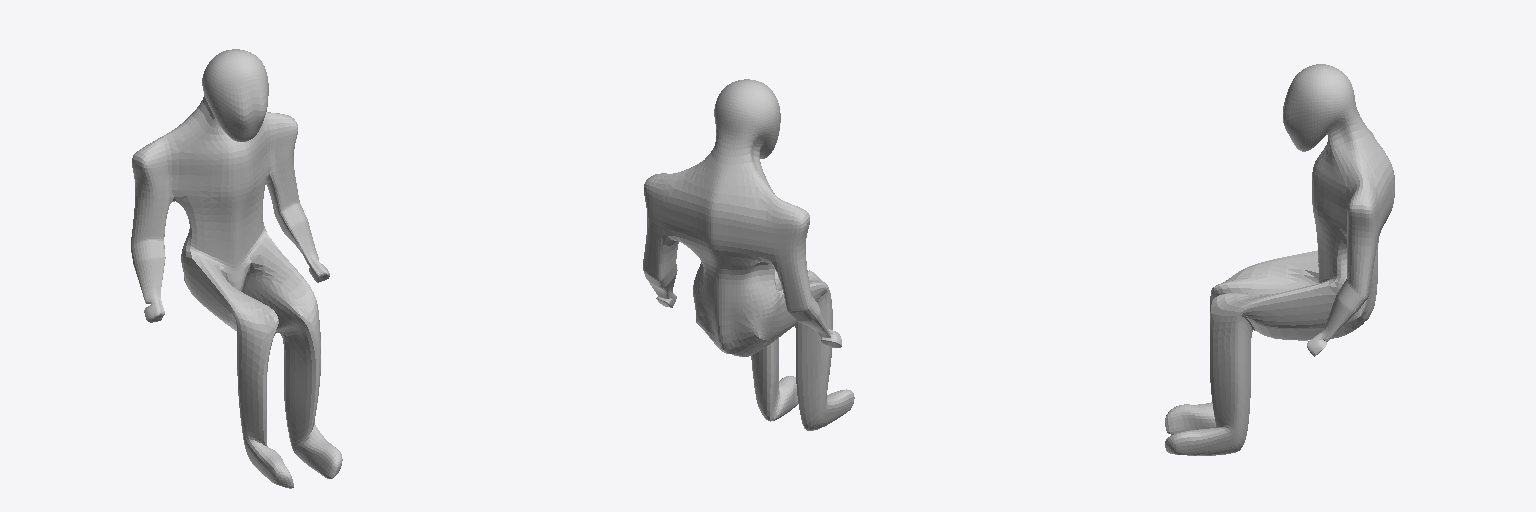
File: human2.obj
3 renders of one model, left to right at view 1: azimuth 30°, elevation 25°; view 2: azimuth 150°, elevation 25°; view 3: azimuth 270°, elevation 25°, orthographic.
Parts seen in each view (by area): view 1: Cube; view 2: Cube; view 3: Cube.
Part boxes in pixels (x1,y1,x2,y2): Cube: (131,49,342,488); Cube: (643,79,854,430); Cube: (1165,64,1394,455).
Size of the model in its own units: 10.9 by 21.46 by 11.84.